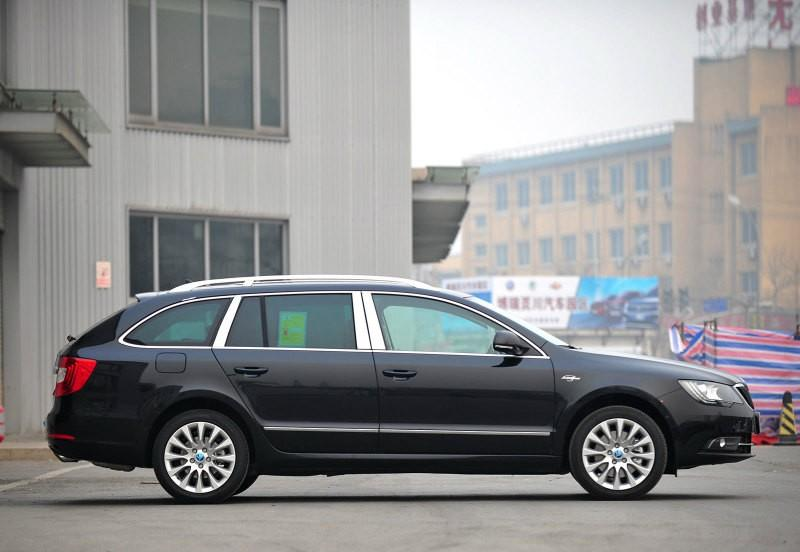Wagon: (45, 274, 760, 506)
